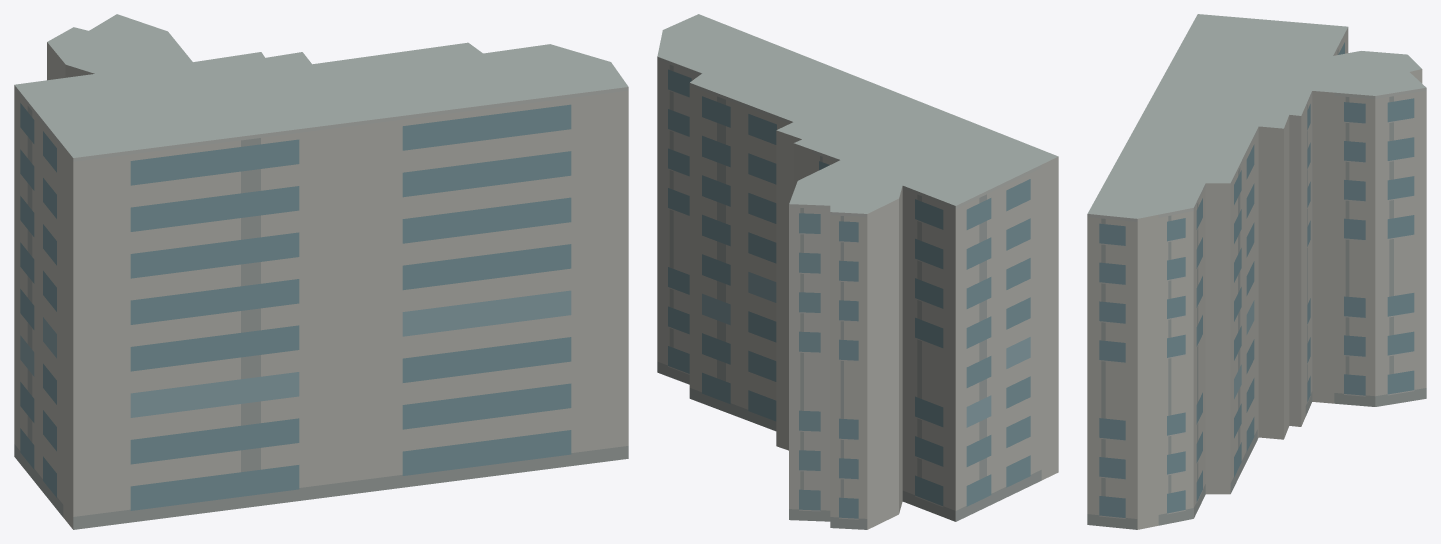
File: survey-upis-32774023.glb
The picture shows the model from 3 angles, left to right: view 1: azimuth 30°, elevation 25°; view 2: azimuth 150°, elevation 25°; view 3: azimuth 270°, elevation 25°; orthographic projection. The views are drawn at different scales.
Parts seen in each view (by area): view 1: survey-upis-32774023.tmp; view 2: survey-upis-32774023.tmp; view 3: survey-upis-32774023.tmp.
Part boxes in pixels (bbox=[...]): survey-upis-32774023.tmp: bbox=[14, 14, 628, 529]; survey-upis-32774023.tmp: bbox=[657, 14, 1058, 529]; survey-upis-32774023.tmp: bbox=[1087, 14, 1426, 529].
Bounding box in the file's own units: 33.2 × 23.5 × 23.23.
